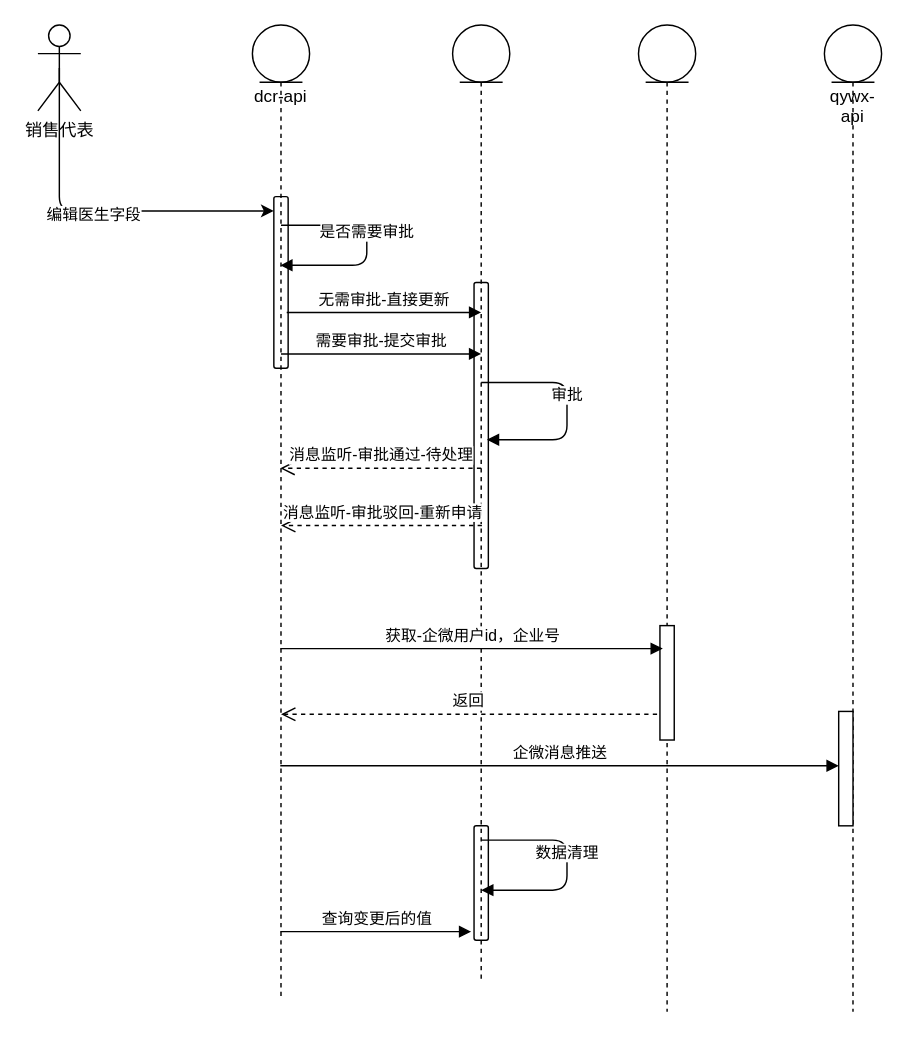
The diagram is 907 pixels wide and 1037 high, and some of its shapes have lost their labels. The shapes that lost their labels are listed below. From the top down, each one's box as (x1, y1, x2, y2) in pixels, then its label:
(451, 24, 510, 983): 企业主数据
(637, 24, 696, 1012): 平台
